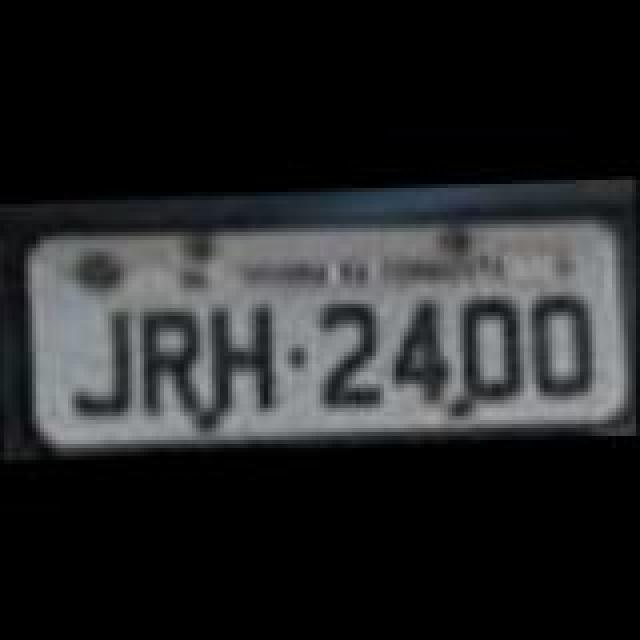2: (318, 298, 386, 406)
4: (388, 286, 460, 406)
H: (216, 296, 280, 424)
J: (70, 300, 138, 420)
O: (522, 280, 594, 400), (454, 286, 522, 402)
R: (144, 294, 208, 426)
